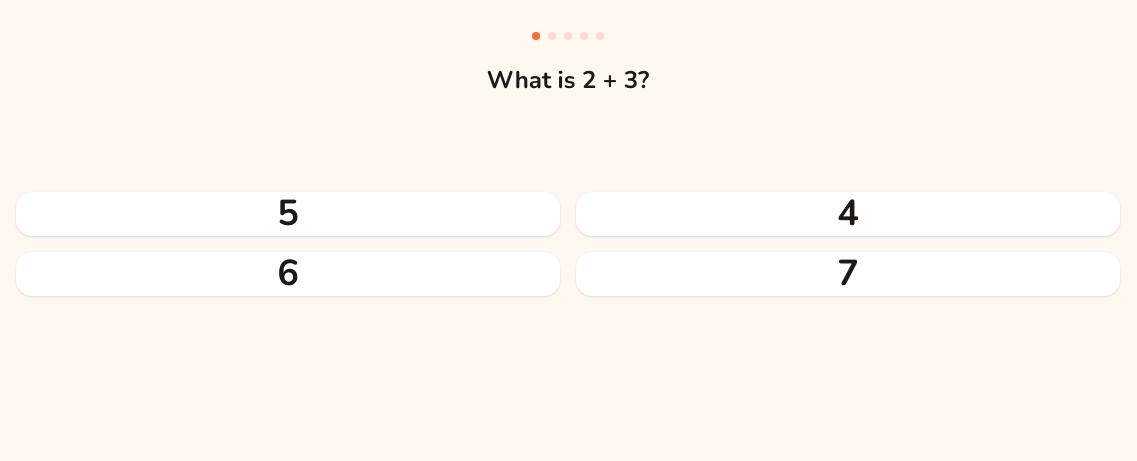
Test: PROG-01: Session write on celebration › writes exactly 1 Session record when all 5 problems are answered correctly
The image size is (1137, 461).
Click the button "5": (288, 214) [16,192,560,236]
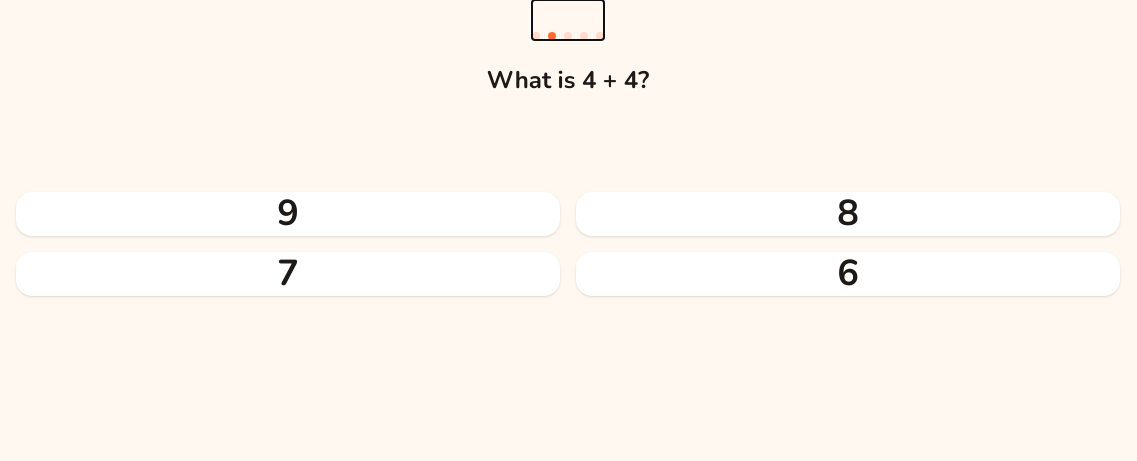
Click the button "8": (848, 214) [576,192,1120,236]
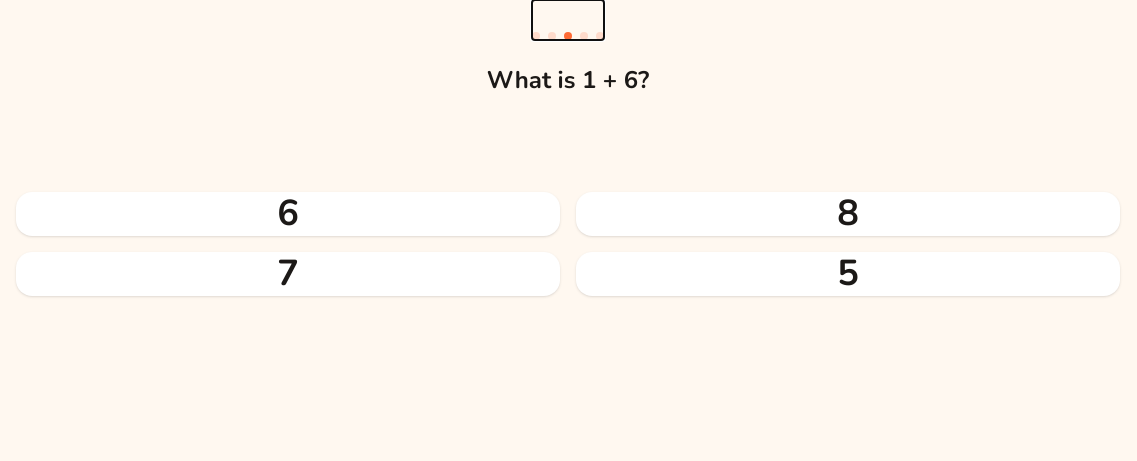
Click the button "7": (288, 274) [16,252,560,296]
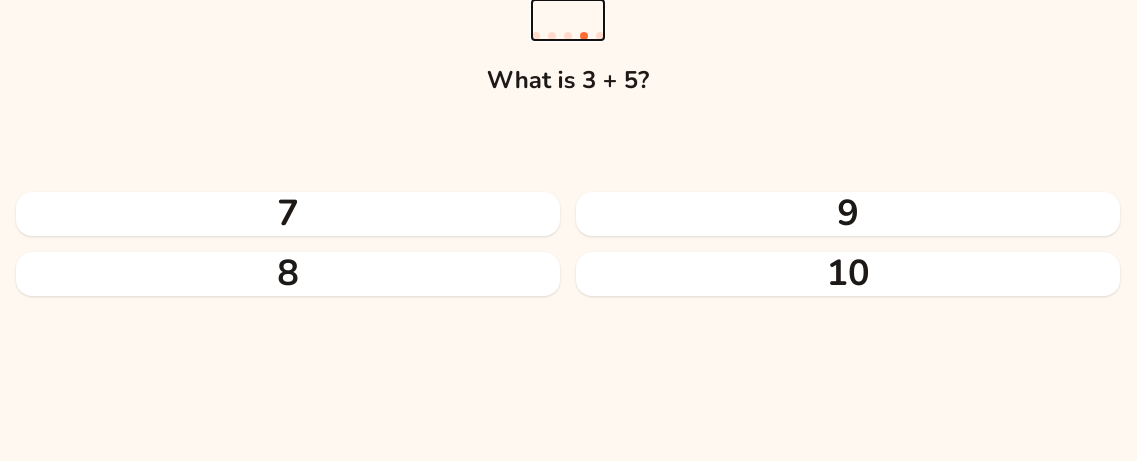
Click the button "8": (288, 274) [16,252,560,296]
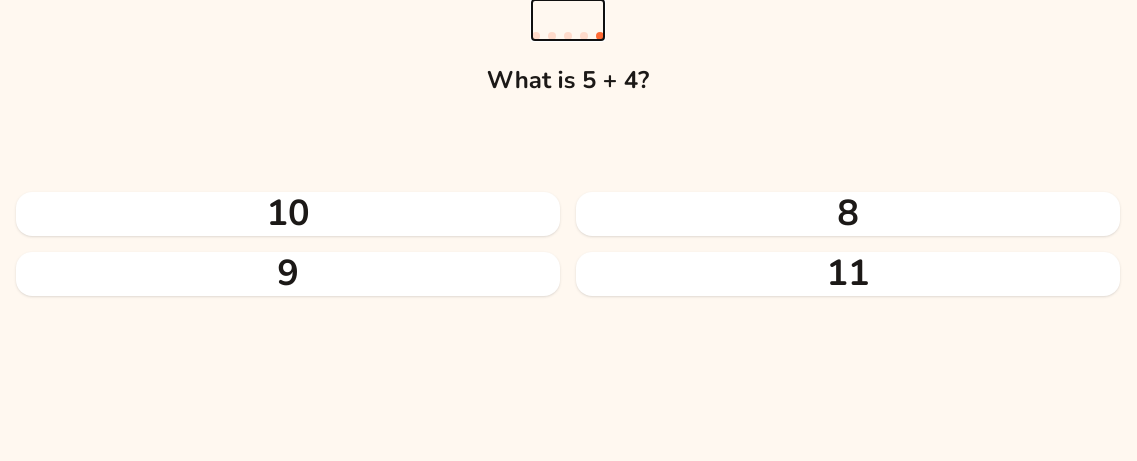
Click the button "9": (288, 274) [16,252,560,296]
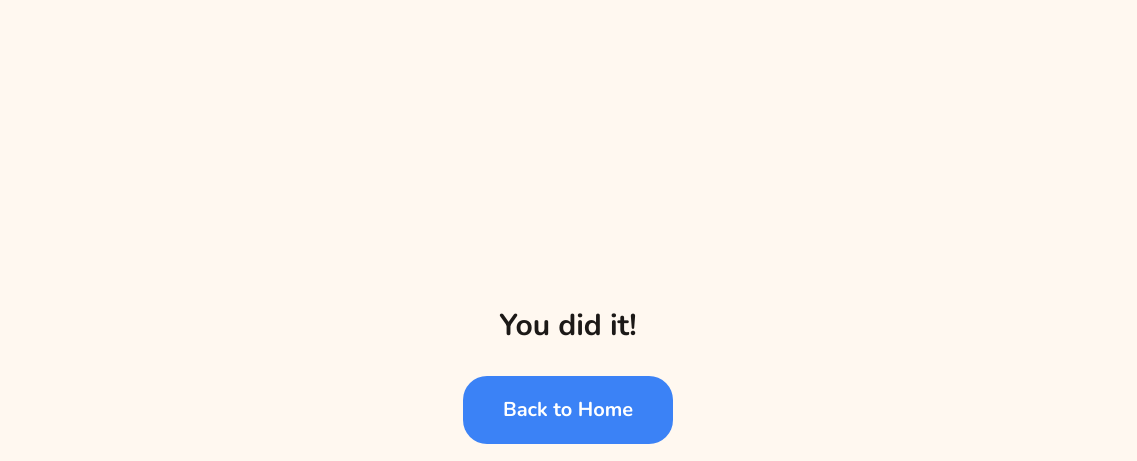
Check: the heading "You did it!" is shown, box [499,308,637,344]
